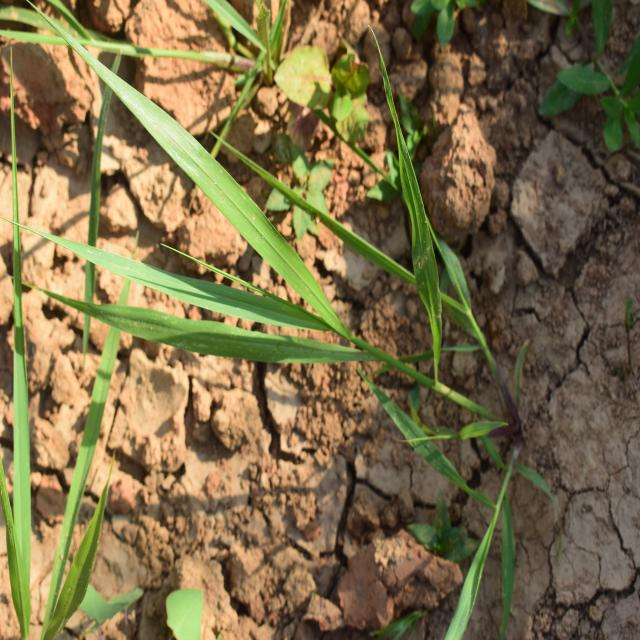green_foxtail: (137, 100, 536, 580)
